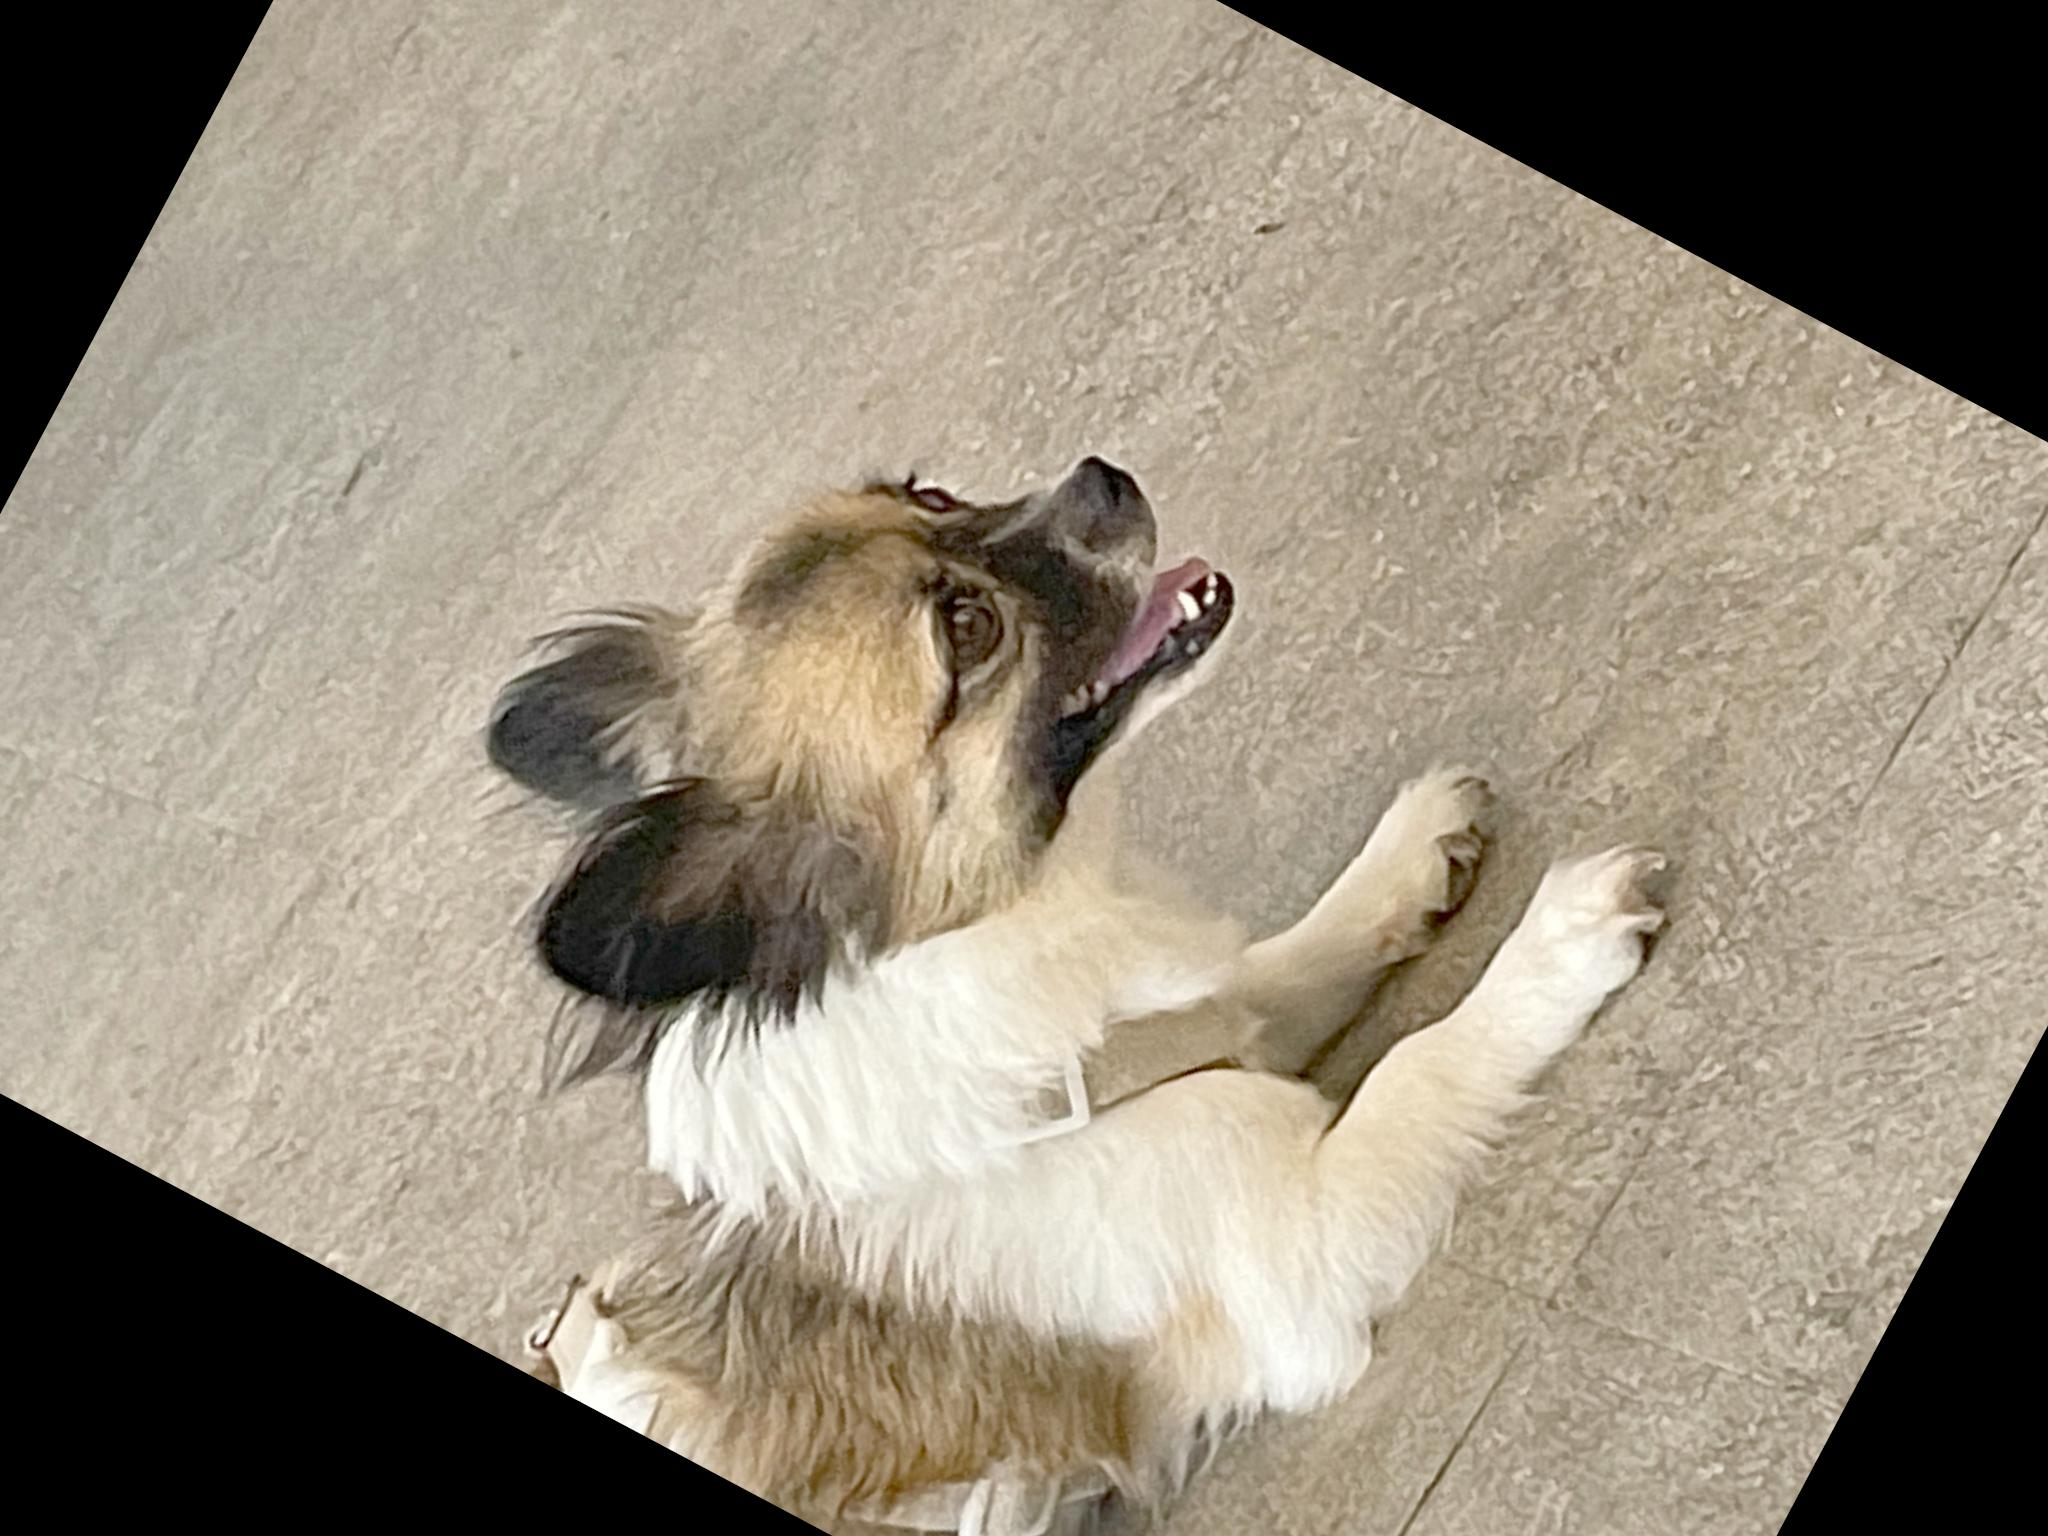dog: (0, 65, 1193, 1473)
